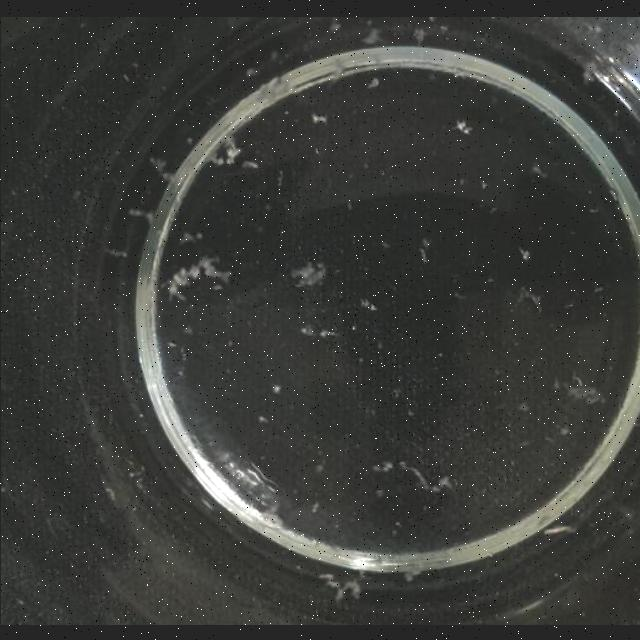Fibre: (162, 253, 230, 301), (560, 375, 602, 405), (396, 462, 436, 492), (290, 260, 326, 288), (326, 575, 360, 603), (196, 258, 232, 284), (120, 202, 158, 226), (147, 155, 176, 183), (540, 520, 576, 542), (514, 286, 542, 312), (298, 322, 338, 338), (218, 144, 242, 164), (360, 28, 380, 44), (453, 120, 472, 134), (436, 474, 452, 490), (372, 460, 392, 472), (359, 297, 376, 311), (412, 27, 426, 43), (530, 164, 546, 176), (240, 159, 258, 169), (519, 248, 529, 260)
microbeads: (311, 111, 327, 123), (366, 76, 378, 88), (272, 382, 280, 392)
